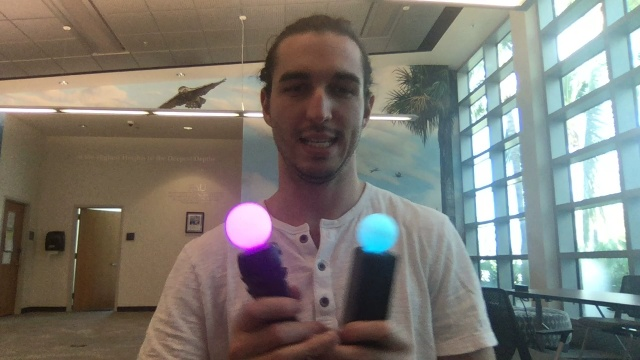wand: (227, 204, 272, 248), (356, 213, 399, 253)
